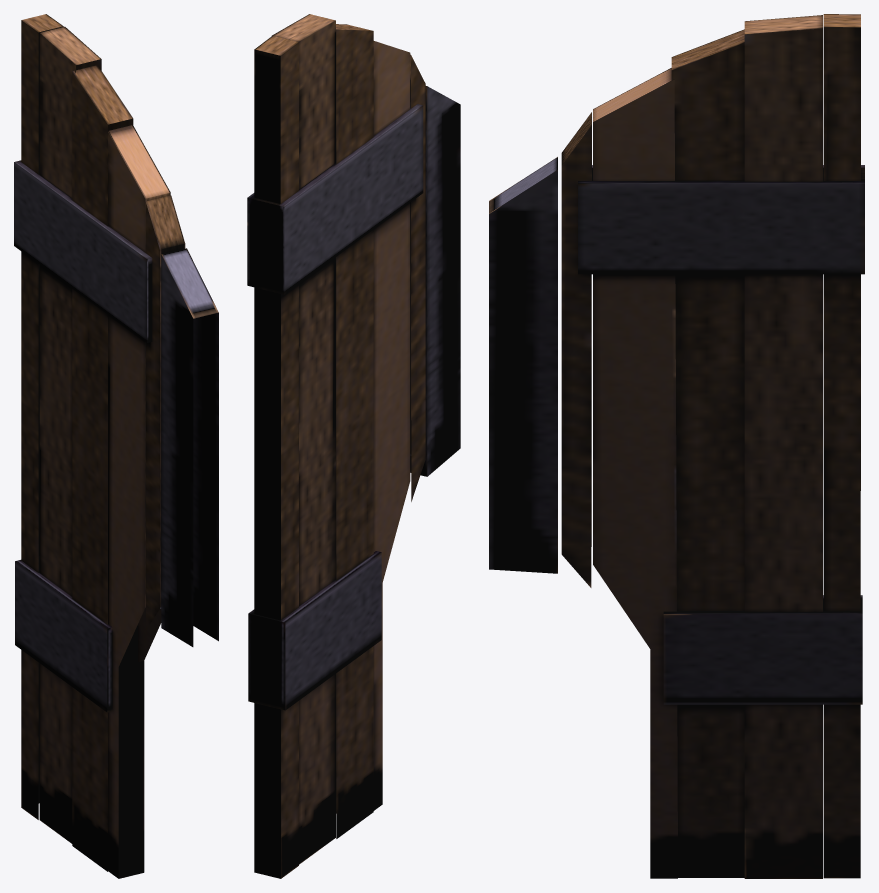
Rendered from DoorSide2_0.obj.
3 renders of one model, left to right at view 1: azimuth 30°, elevation 25°; view 2: azimuth 150°, elevation 25°; view 3: azimuth 270°, elevation 25°, orthographic. The views are drawn at different scales.
Visible parts, largest first — view 1: Cube.001_Cube.422; view 2: Cube.001_Cube.422; view 3: Cube.001_Cube.422.
Boxes of the visible parts, x1=… form: Cube.001_Cube.422: x1=14, y1=14, x2=218, y2=878; Cube.001_Cube.422: x1=247, y1=14, x2=460, y2=878; Cube.001_Cube.422: x1=489, y1=14, x2=864, y2=878.
Bounding box in the file's own units: 12.66 × 268 × 107.
